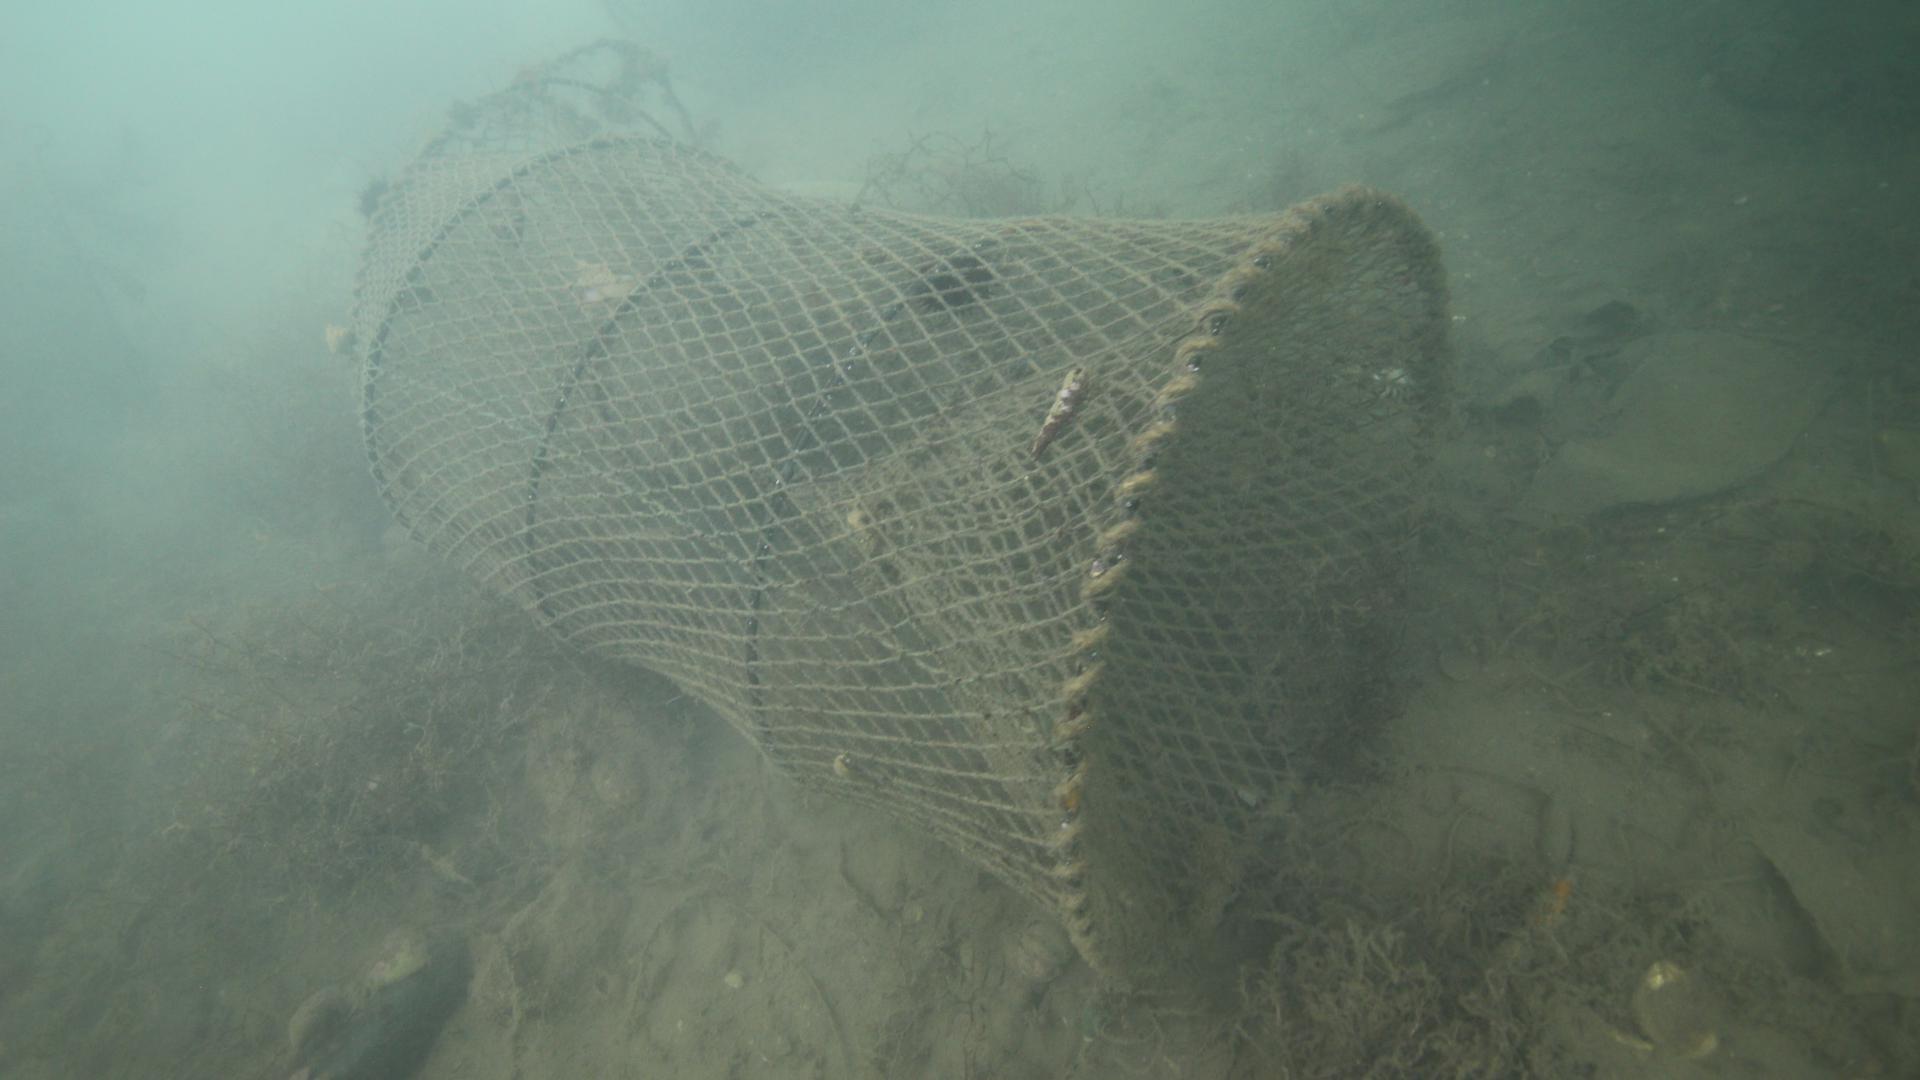spring fish trap: (343, 76, 1451, 1004)
